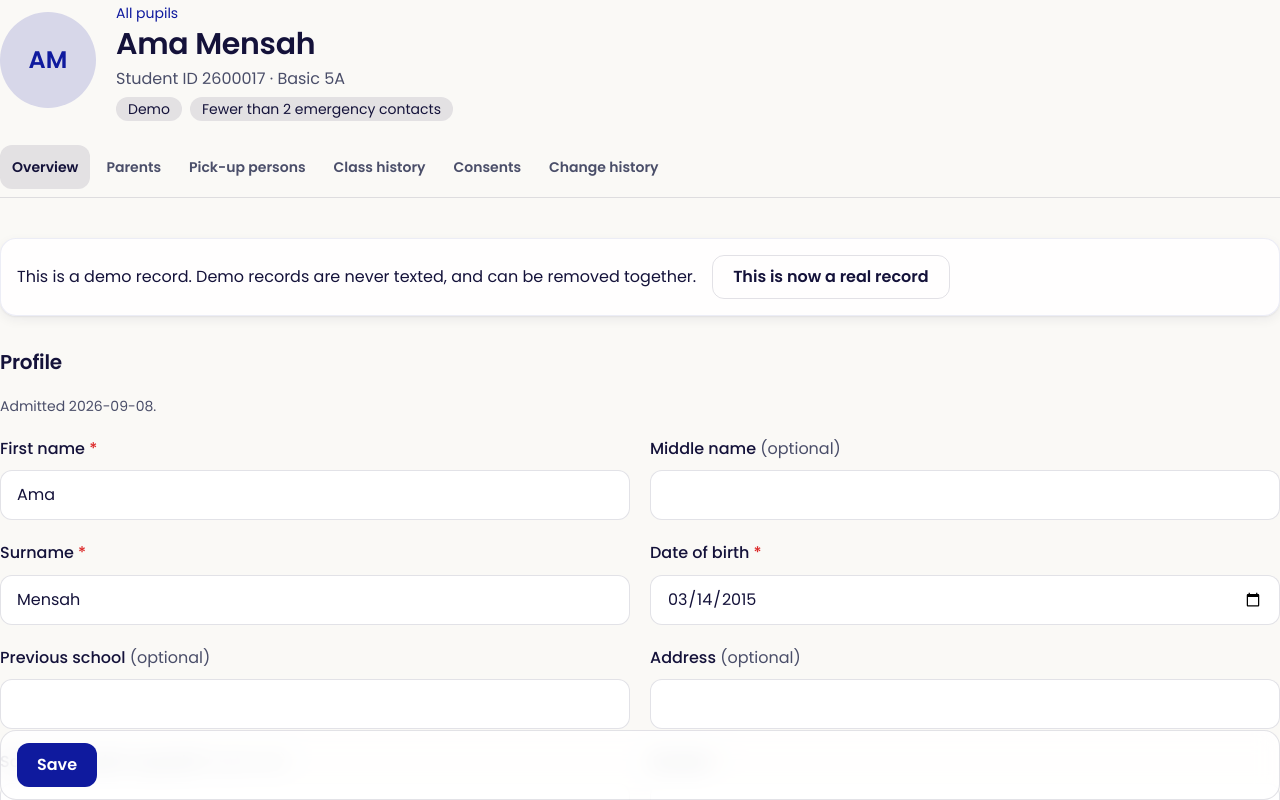
Test: PupilDetailView › moves between the record's tabs
Click the tab "Class history".
click(380, 167)  # box [322,145,438,189]
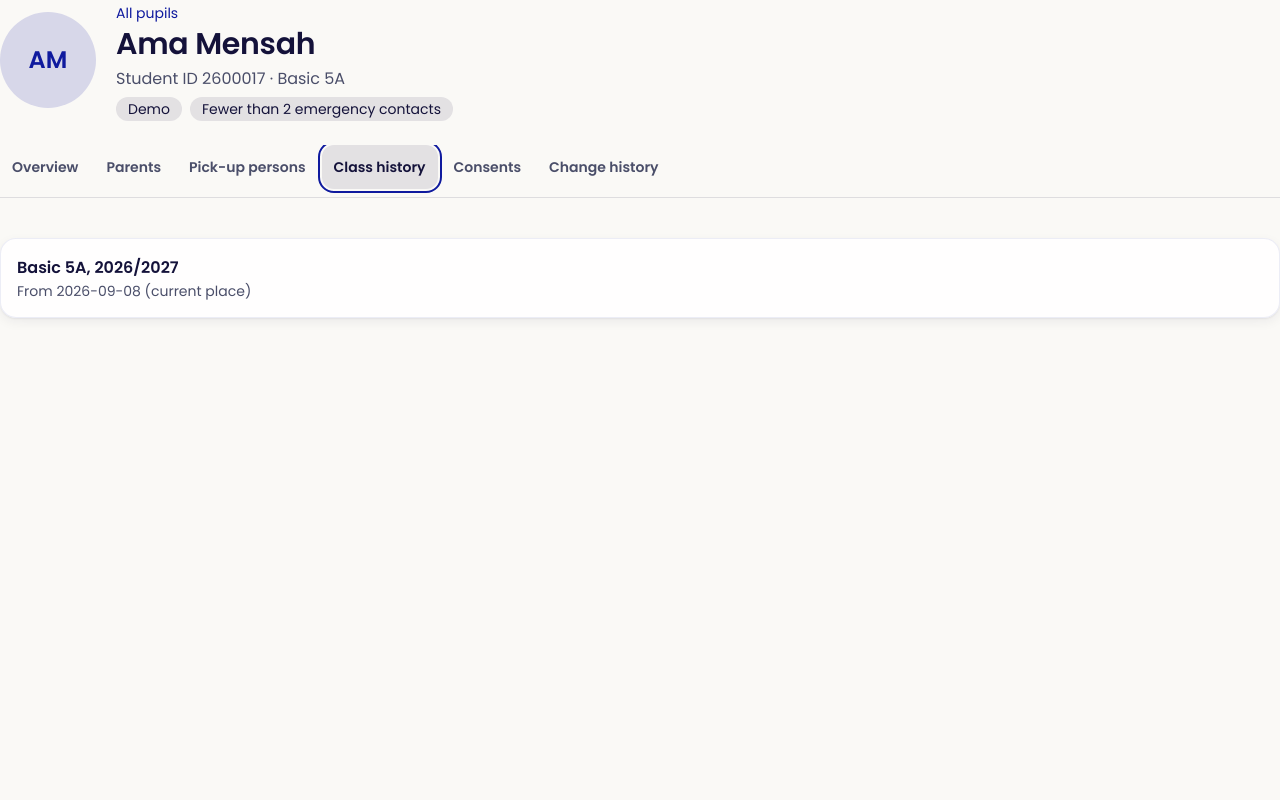
Expected: the text "Basic 5A, 2026/2027" is shown, [17,256,179,279]
